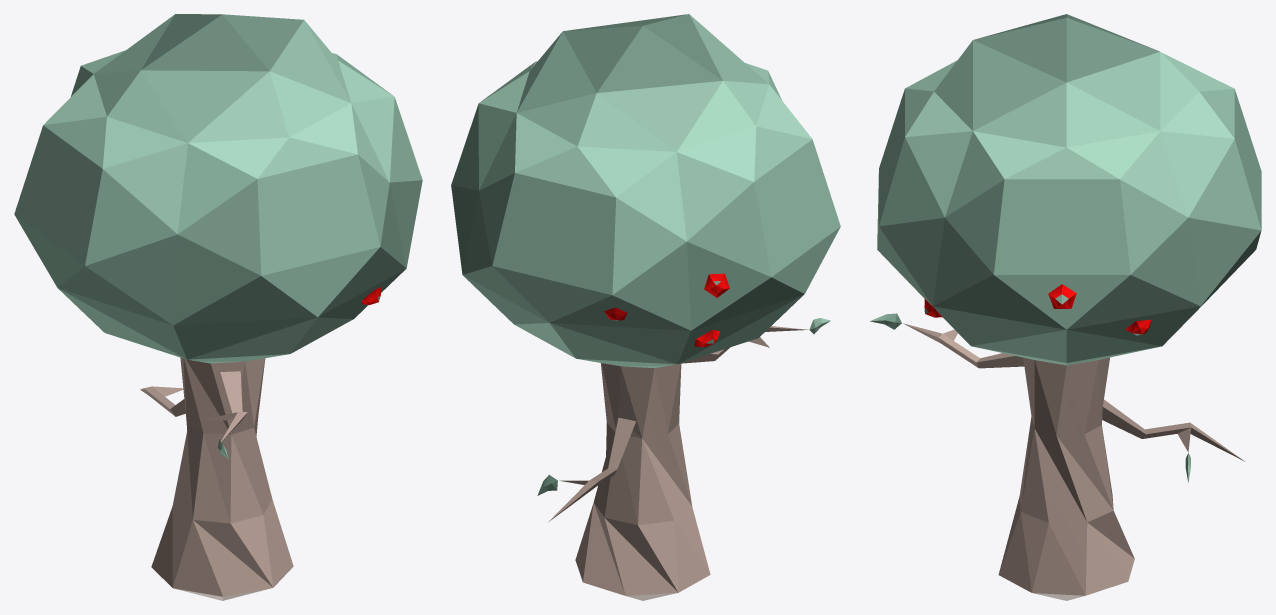
The model's file is TreeApple.fbx.
The picture shows the model from 3 angles, left to right: view 1: azimuth 30°, elevation 25°; view 2: azimuth 150°, elevation 25°; view 3: azimuth 270°, elevation 25°; orthographic projection.
Visible parts, largest first — view 1: TreeApple; view 2: TreeApple; view 3: TreeApple.
Boxes of the visible parts, <box> form: TreeApple: <box>14,14,422,600</box>; TreeApple: <box>451,14,840,600</box>; TreeApple: <box>870,14,1261,600</box>.
Size of the model in its own units: 3.66 by 6 by 3.65.
